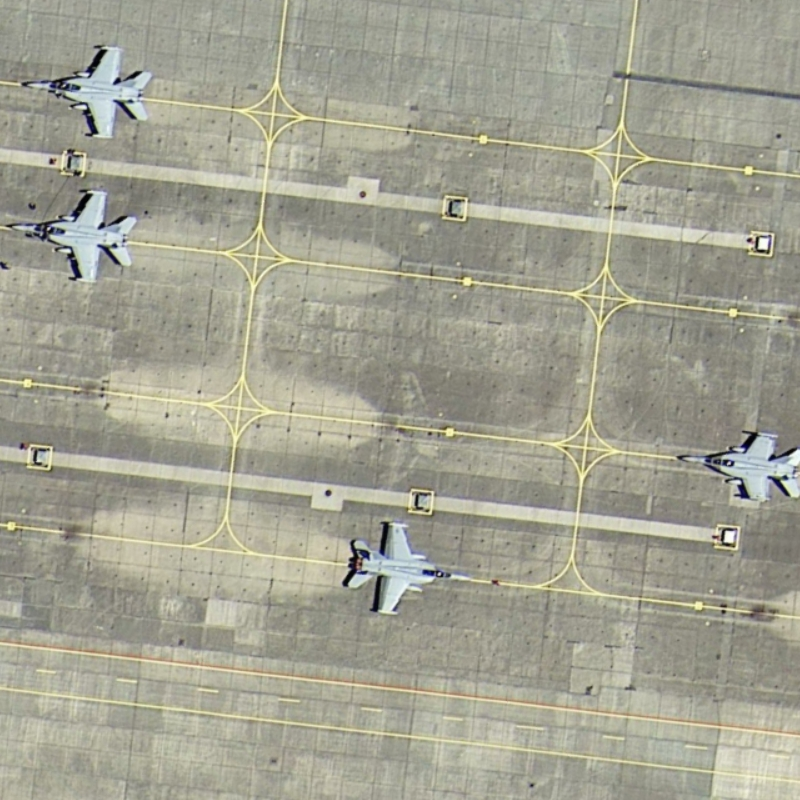A16: (334, 513, 484, 623), (12, 34, 162, 143), (1, 183, 146, 292), (670, 421, 800, 506)
